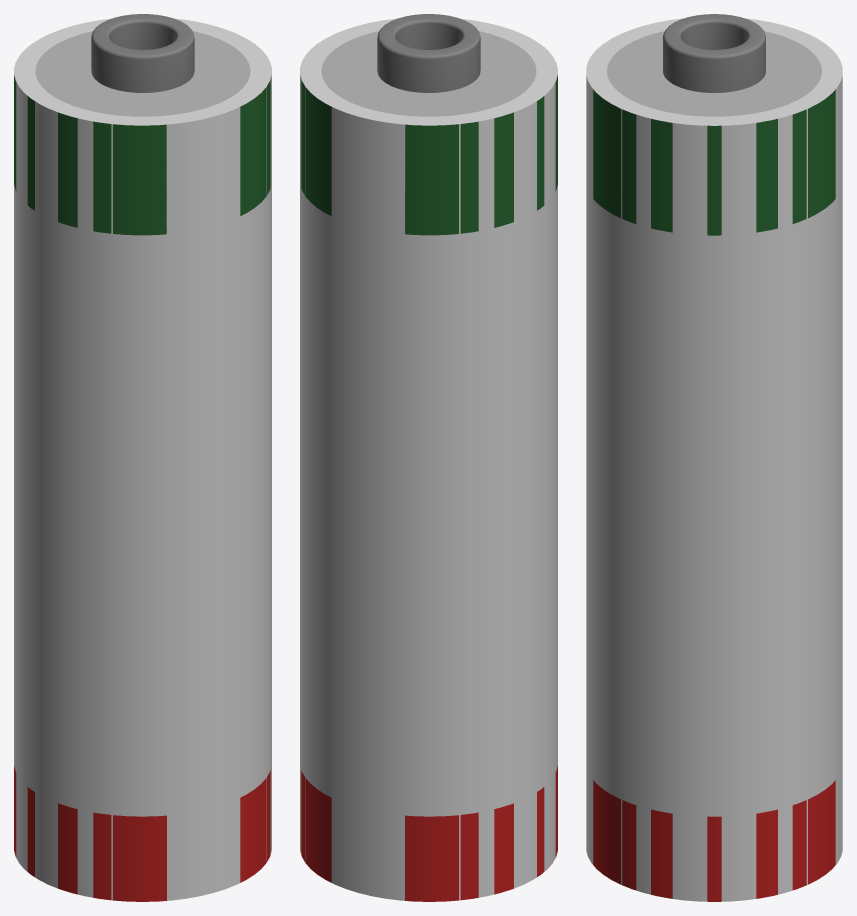
3 renders of one model, left to right at view 1: azimuth 30°, elevation 25°; view 2: azimuth 150°, elevation 25°; view 3: azimuth 270°, elevation 25°, orthographic.
Parts seen in each view (by area): view 1: casing, green_band, red_band, top_face, terminal; view 2: casing, green_band, red_band, top_face, terminal; view 3: casing, green_band, red_band, top_face, terminal.
Boxes of the visible parts, <box> form: casing: <box>14,18,271,900</box>; green_band: <box>14,75,270,235</box>; red_band: <box>14,766,270,901</box>; top_face: <box>35,31,250,116</box>; terminal: <box>91,14,194,92</box>; casing: <box>300,18,557,900</box>; green_band: <box>301,75,557,235</box>; red_band: <box>301,766,557,901</box>; top_face: <box>321,31,536,116</box>; terminal: <box>377,14,480,92</box>; casing: <box>586,18,842,901</box>; green_band: <box>593,89,835,235</box>; red_band: <box>593,780,835,901</box>; top_face: <box>607,31,821,116</box>; terminal: <box>663,14,765,92</box>.
Size of the model in its own units: 0.0577 by 0.2 by 0.0572.
